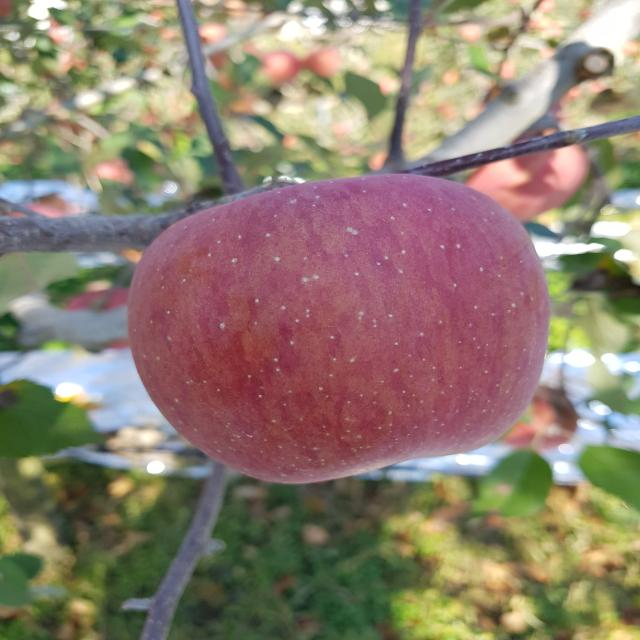fresh: (116, 165, 566, 494)
